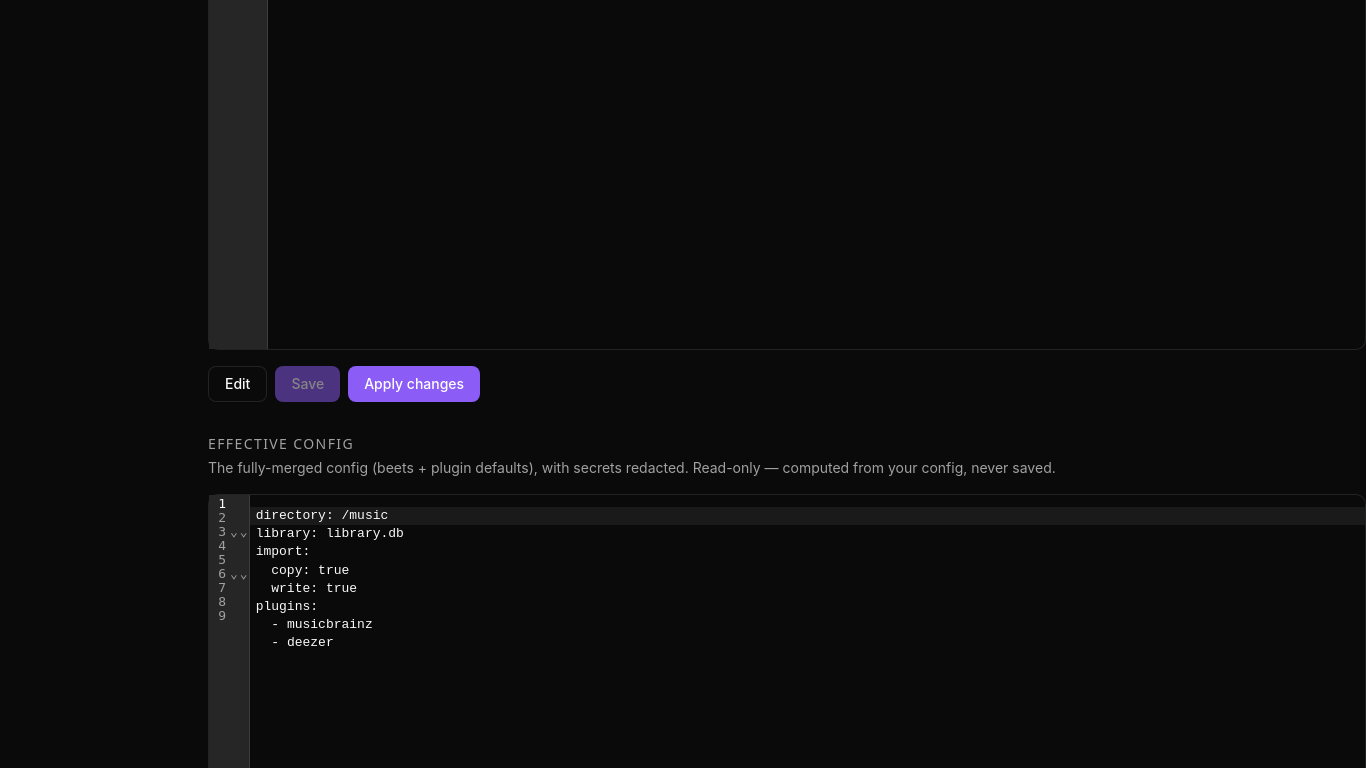
Scenario: SettingsPage › an Apply failure without a recovery line falls back to the fixed sentence
(page scrolled)
Click the button "Apply changes".
click(414, 384)  # box [348,366,480,402]
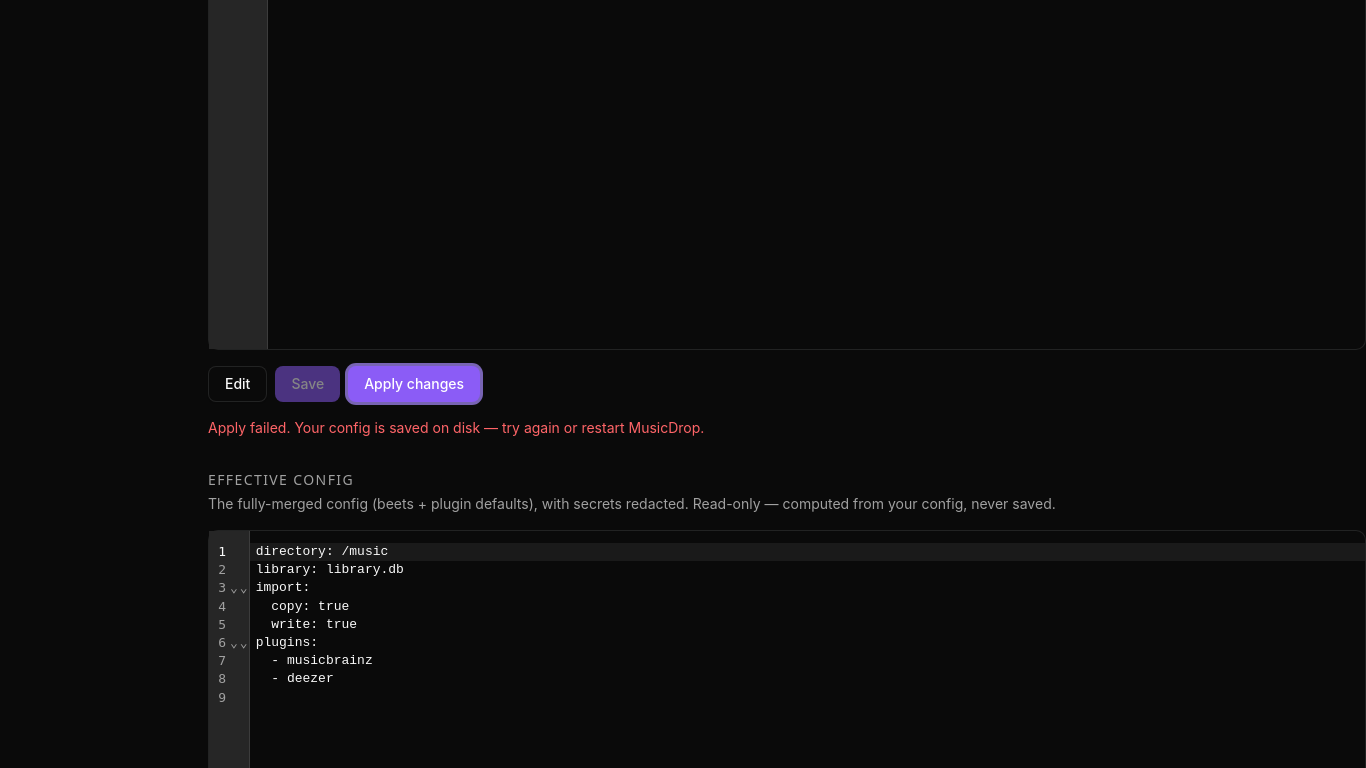
Expected: the text "Apply failed. Your config is saved on disk — try again or restart MusicDrop." is shown, [208,419,704,436]
